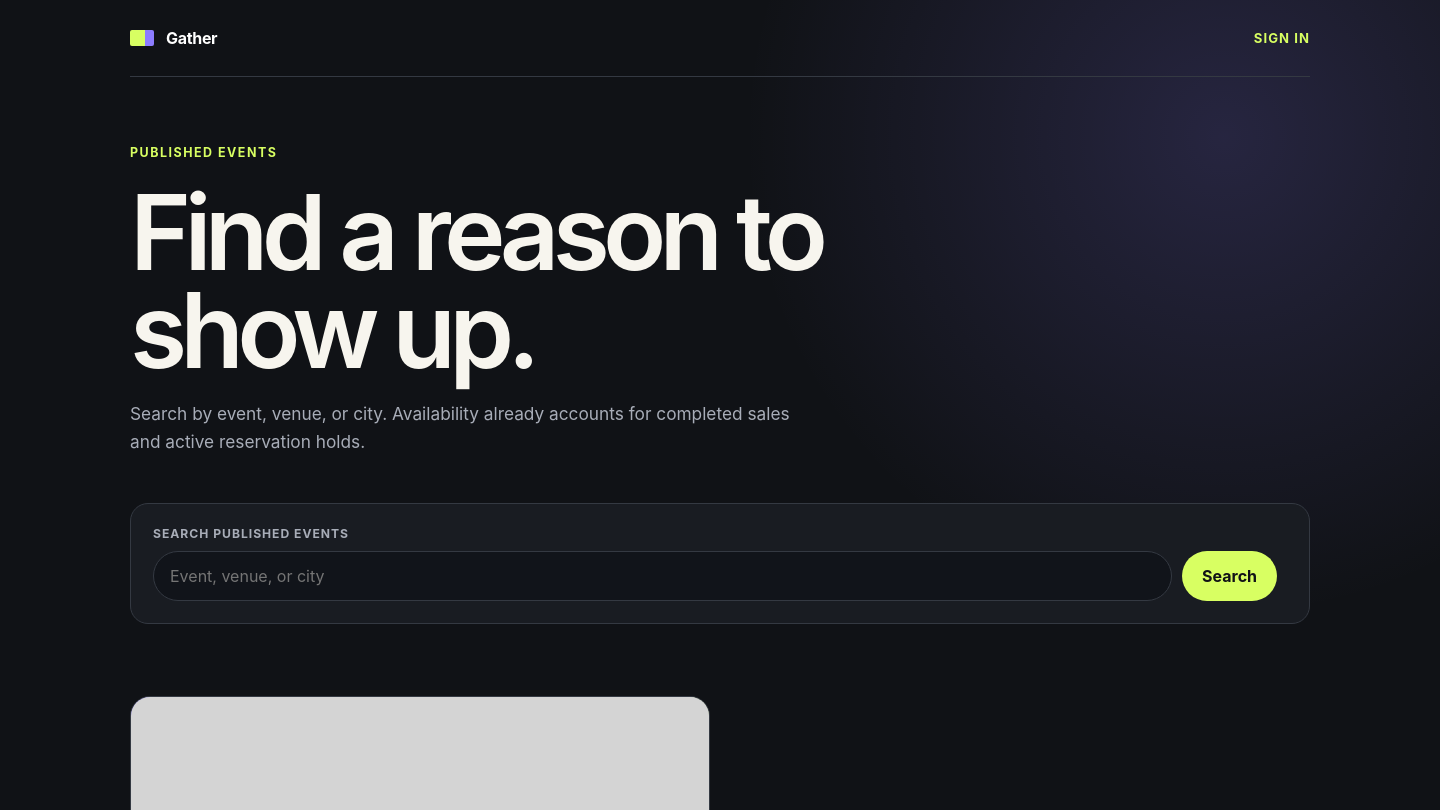
Scenario: published event discovery › submits a basic text search and presents an actionable empty state
The image size is (1440, 810).
Step 1. Type "  Porto Alegre  " into the search field labelled "Search published events" → (662, 576), box x1=153 y1=550 x2=1172 y2=600
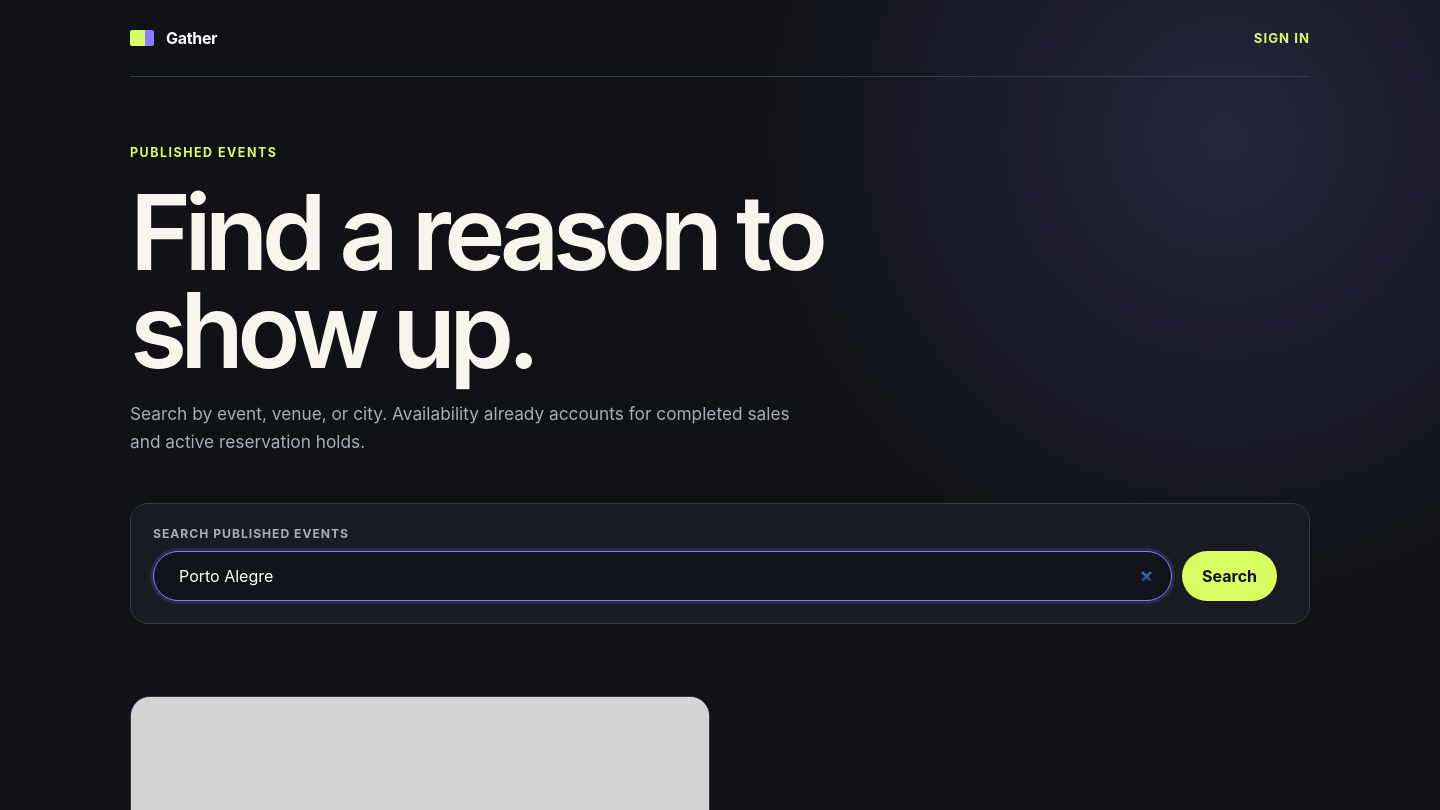
Step 2. Click the button "Search" → (1230, 576), box x1=1182 y1=550 x2=1277 y2=600
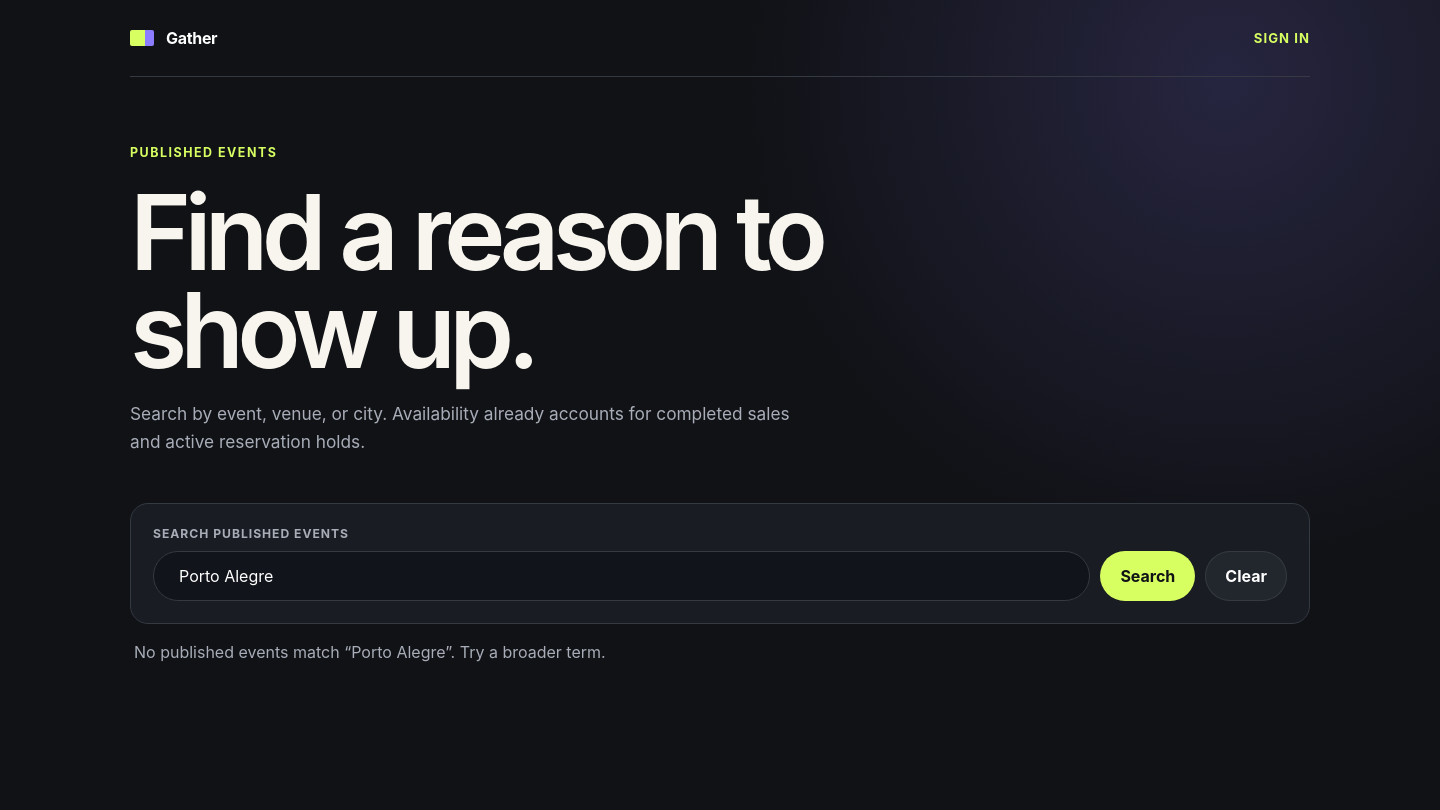
Check: the text "No published events match “Porto Alegre”" is shown, box x1=134 y1=642 x2=606 y2=662
